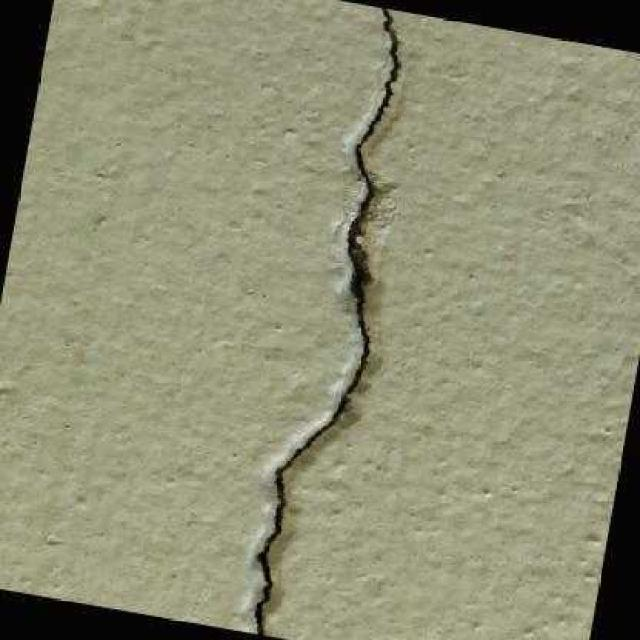D00: (253, 7, 396, 635)
